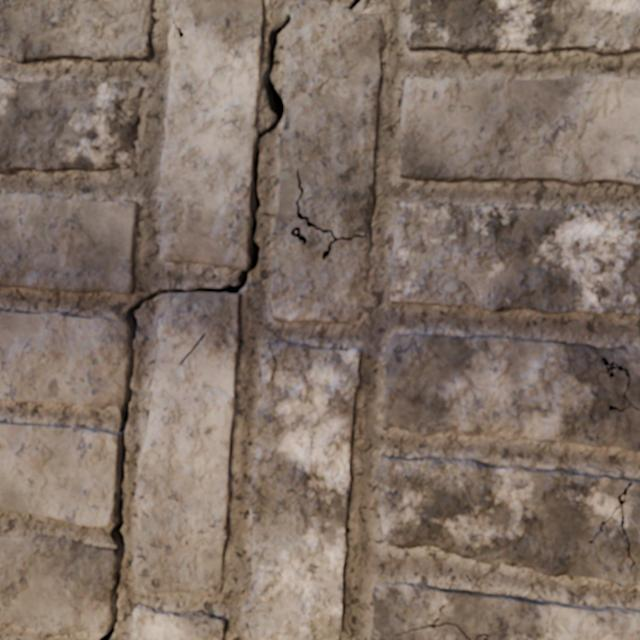crack: (0, 0, 386, 639), (242, 341, 360, 639), (376, 456, 639, 587), (383, 334, 639, 451), (389, 201, 639, 315), (400, 72, 639, 185), (370, 581, 639, 639), (0, 193, 140, 294), (0, 78, 142, 175), (405, 0, 639, 55), (0, 0, 154, 64), (132, 604, 225, 639)
